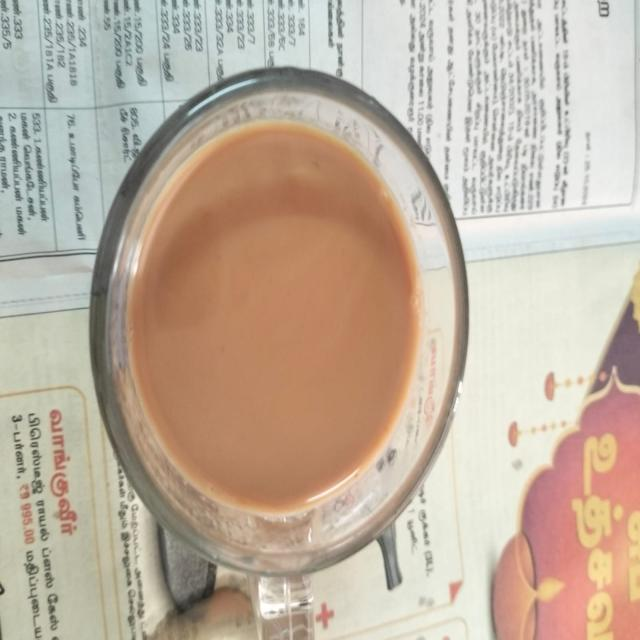glass-VX4N: (88, 65, 470, 640)
